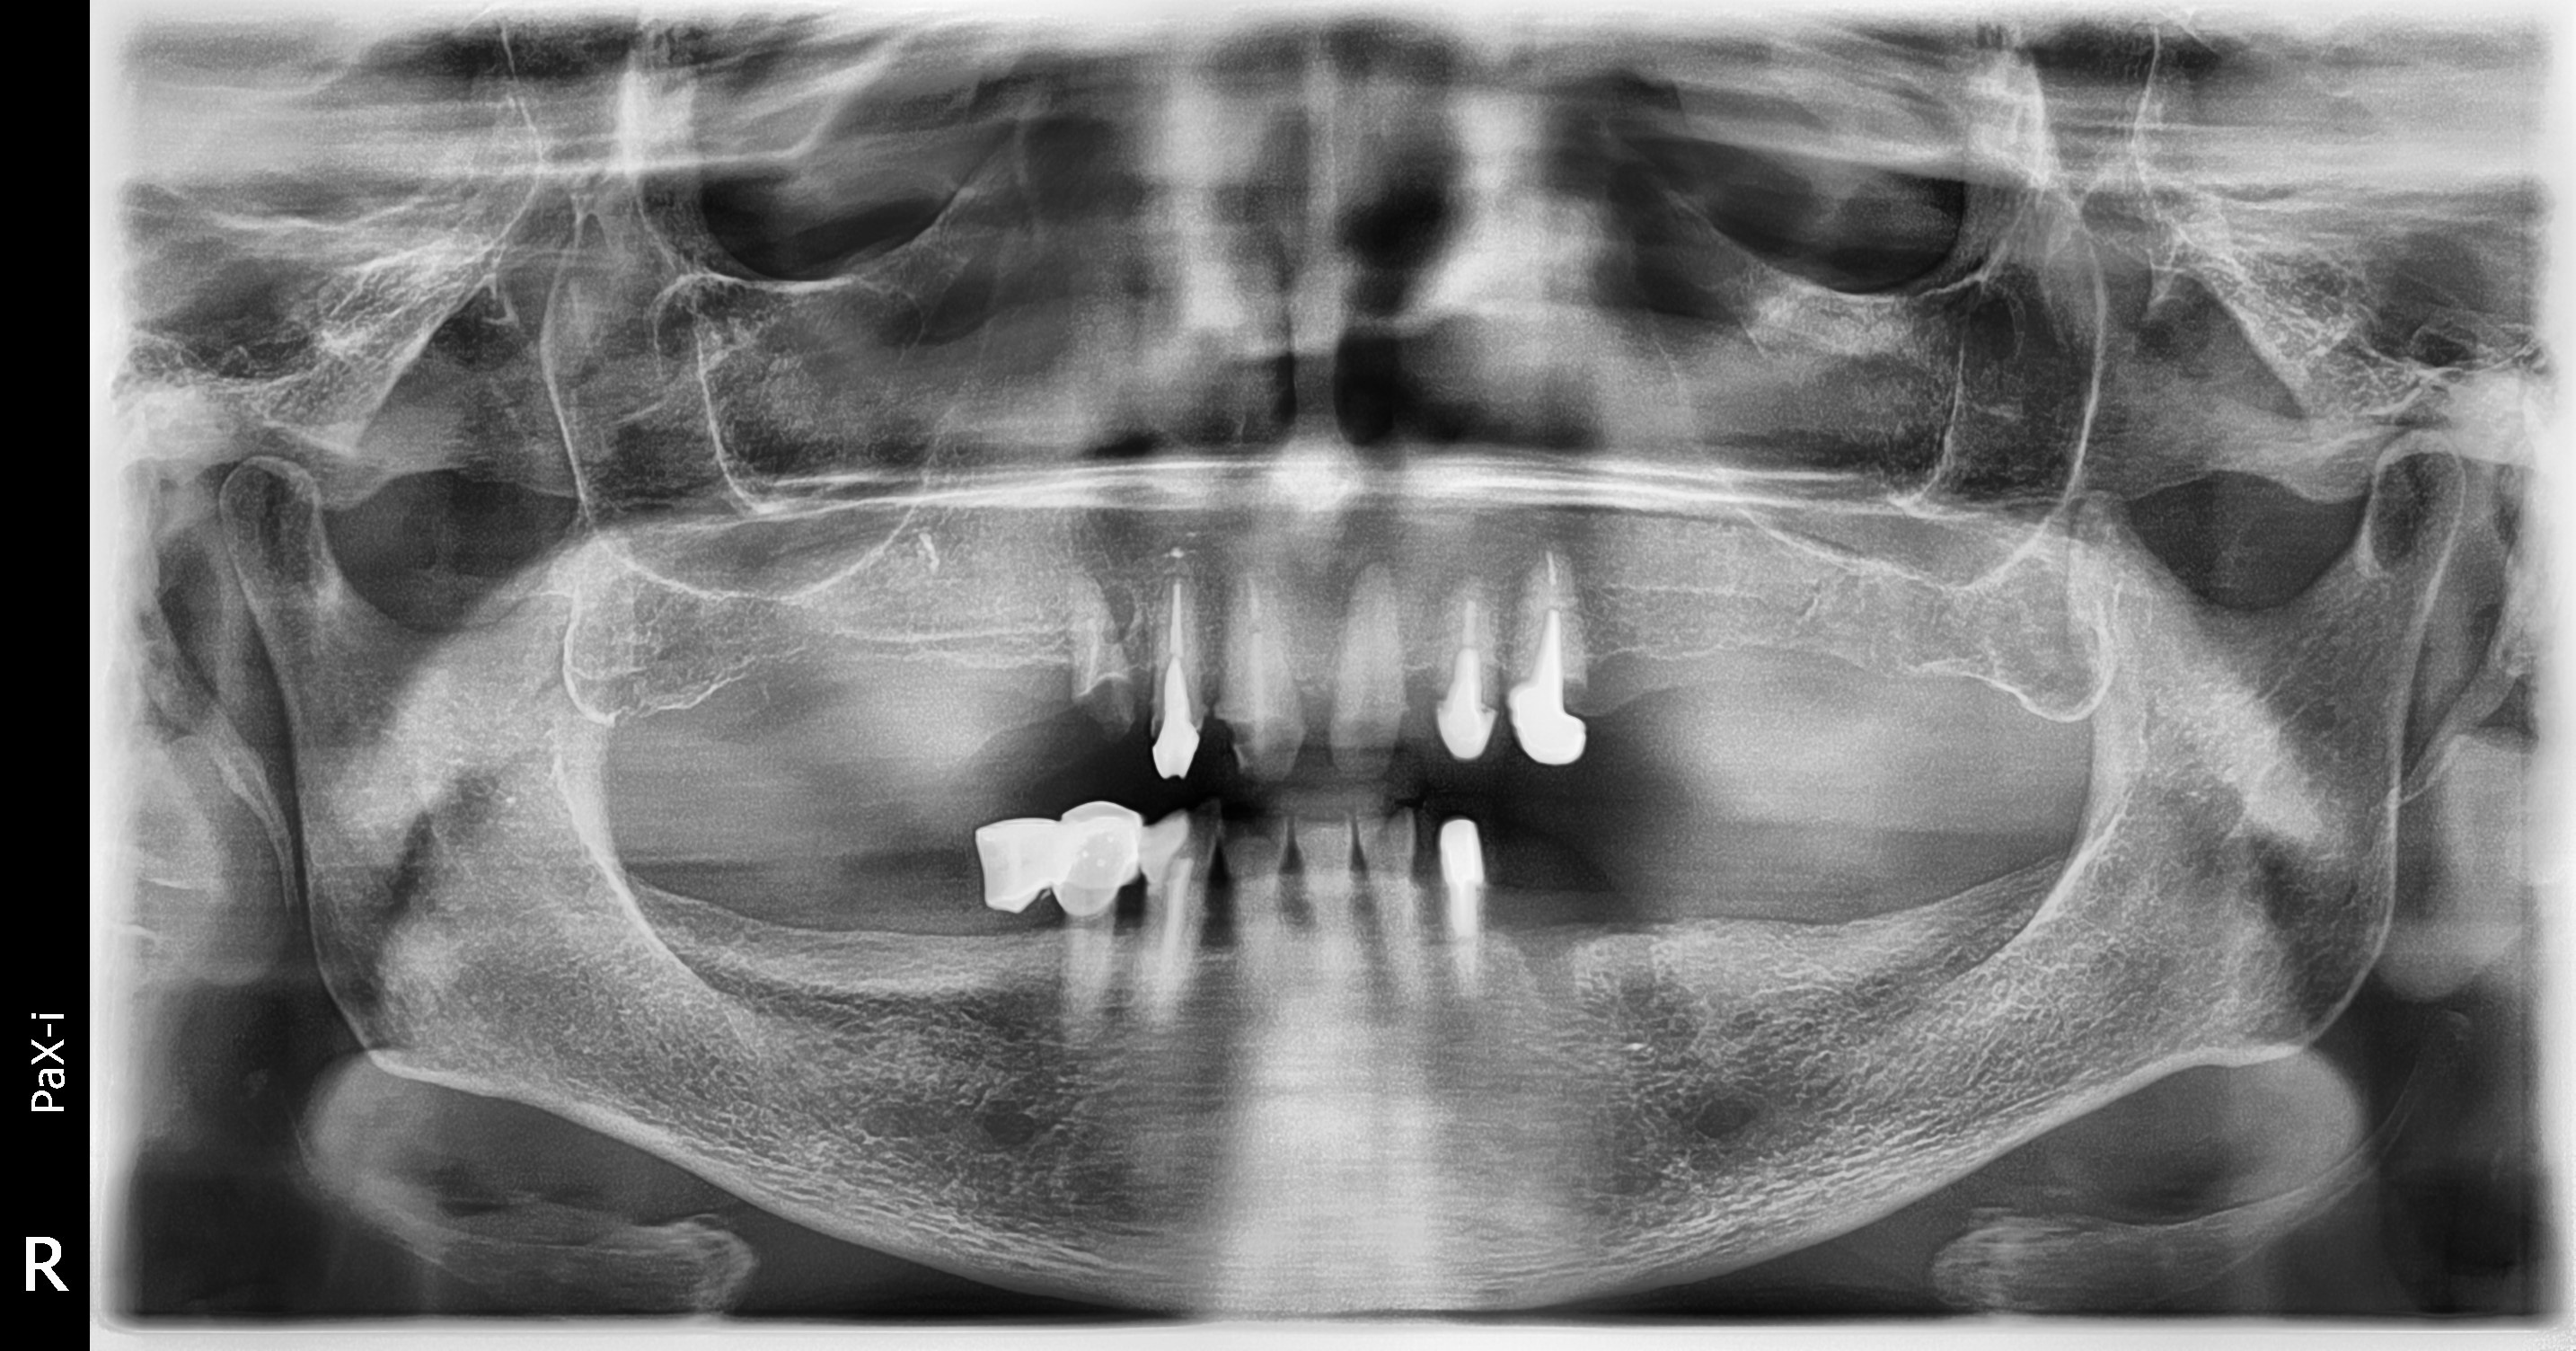CAR: (745, 291, 2349, 1019), (574, 307, 1838, 1073)
END: (535, 332, 1738, 1351), (695, 245, 2184, 900), (739, 232, 2319, 840), (579, 218, 1860, 896), (547, 198, 1755, 862)
OBT: (526, 353, 1721, 1244)
PRR: (661, 349, 2174, 1261), (702, 225, 2298, 1010), (656, 262, 2169, 1036), (356, 327, 1496, 1252), (525, 278, 1750, 1068)
ROT: (467, 181, 1613, 925)
